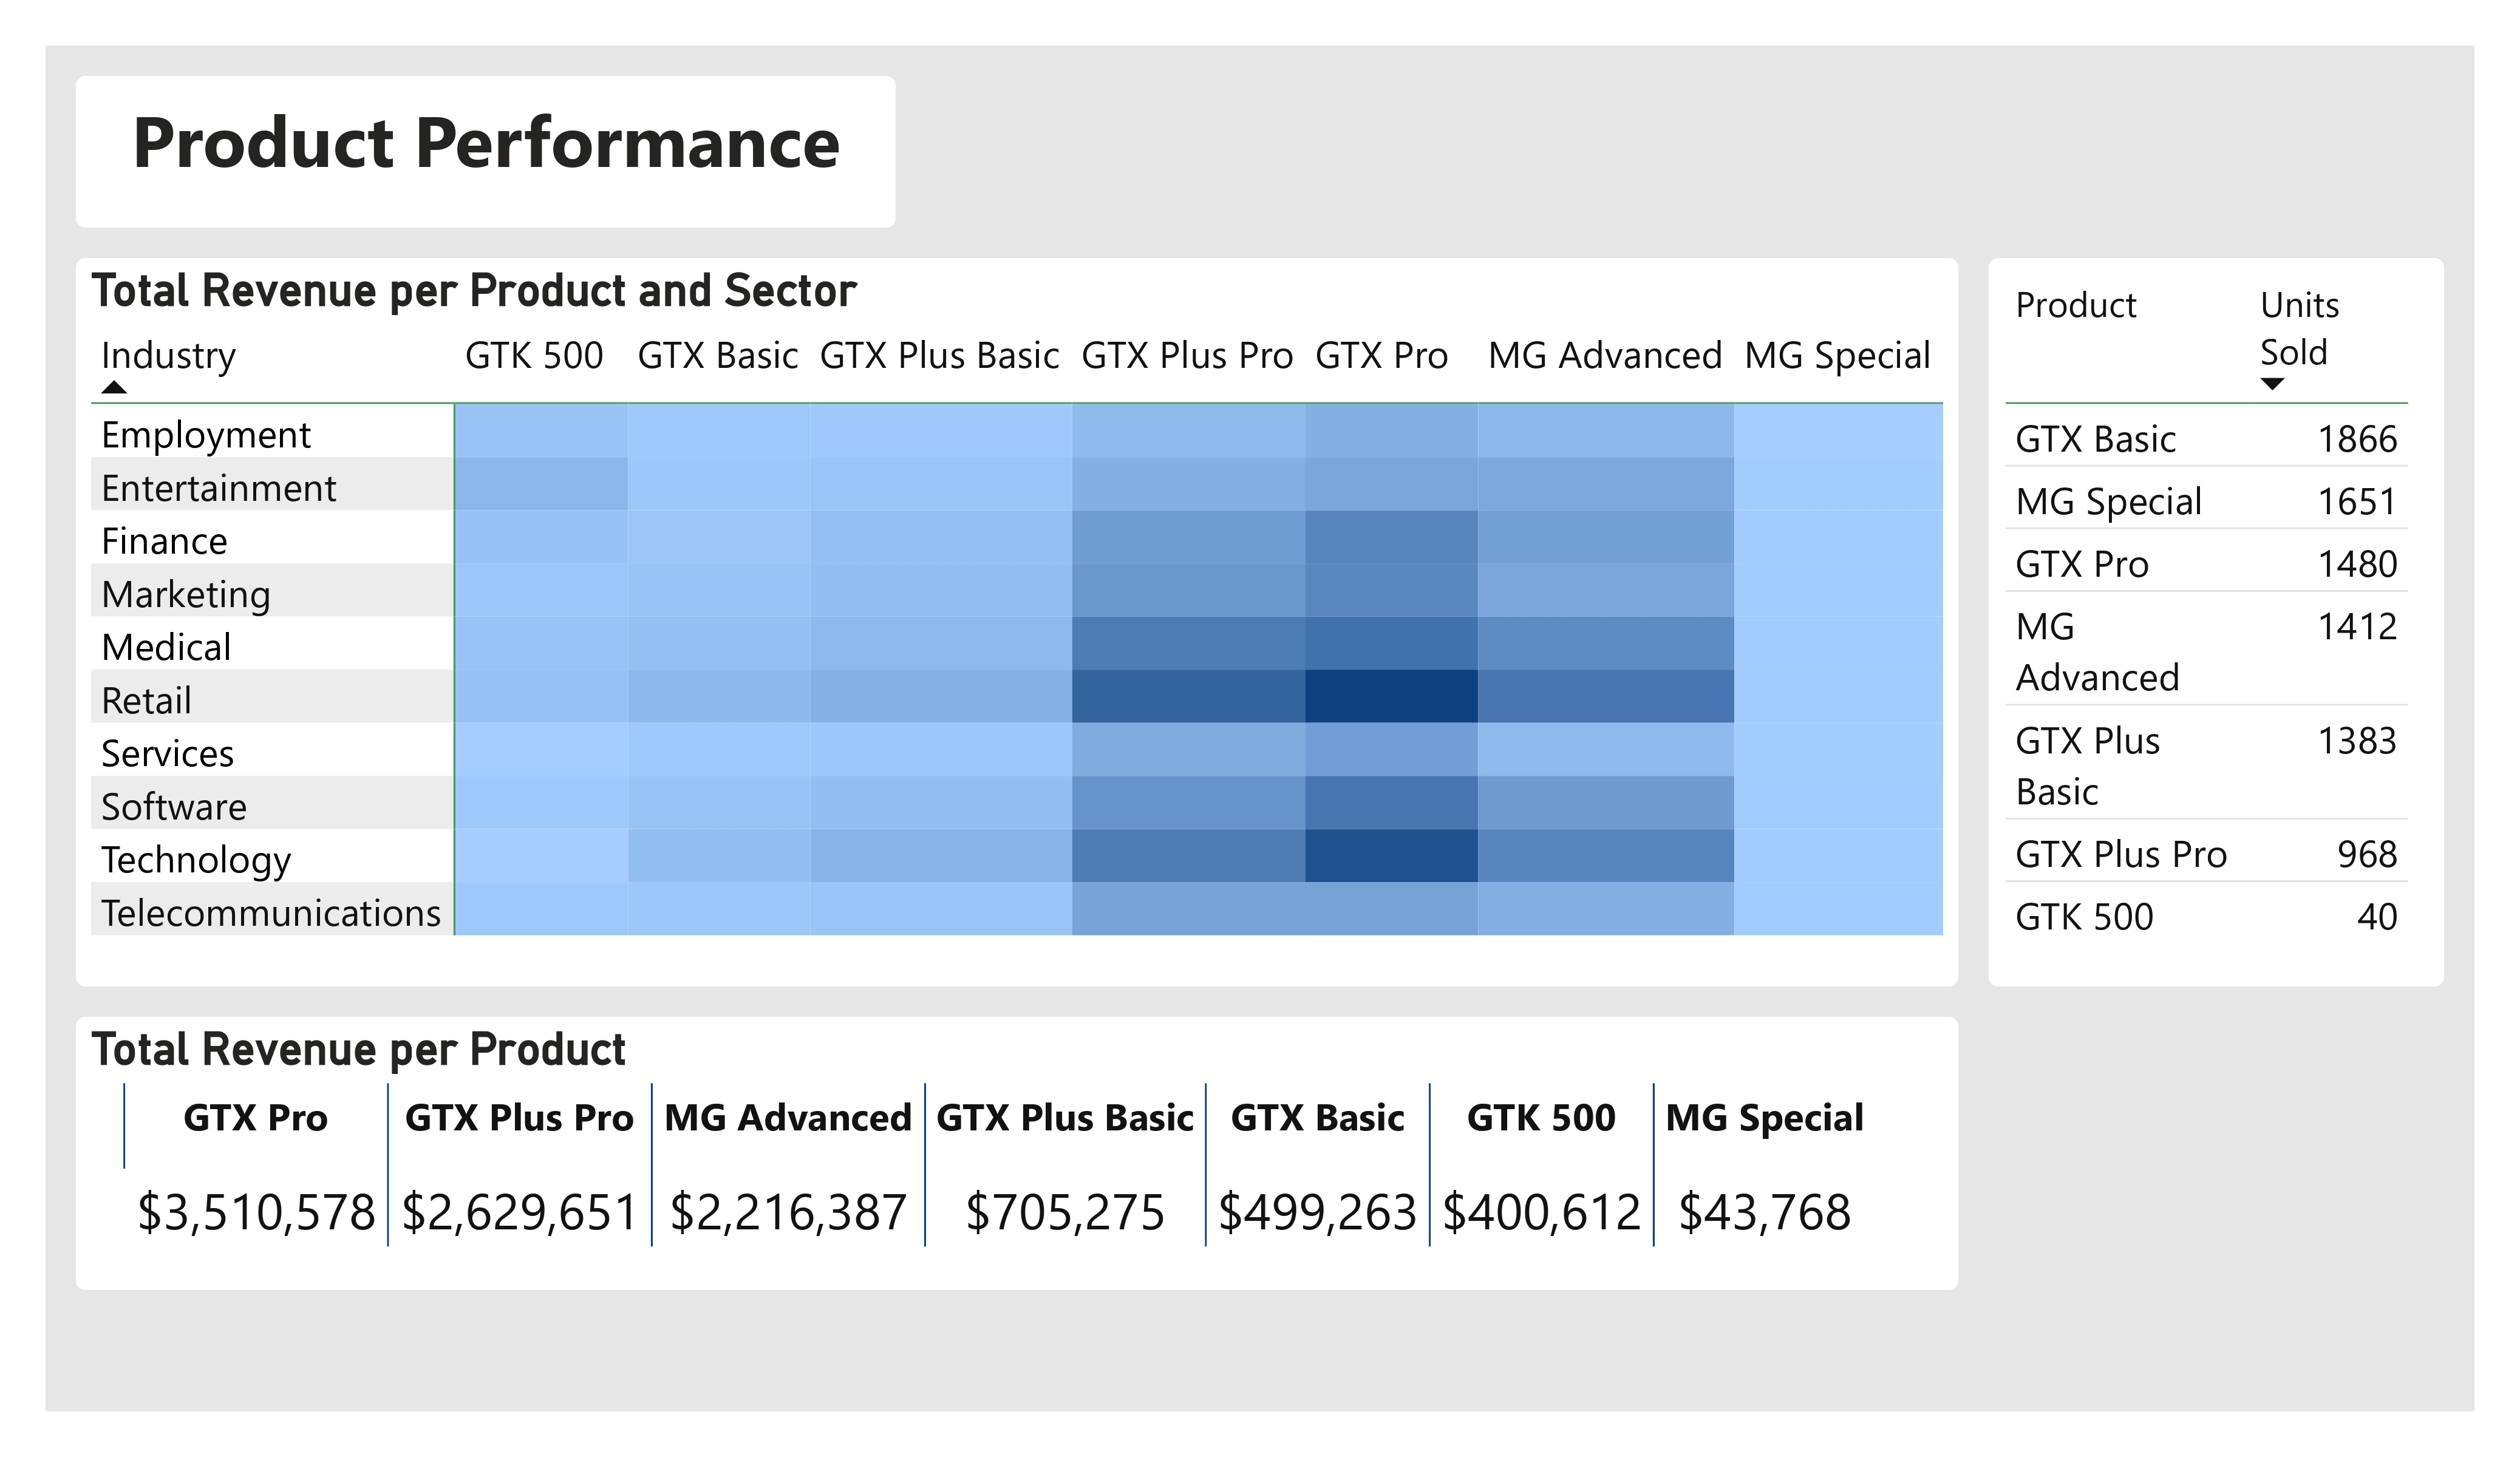

This screenshot's page, from the dashboard's own definition file:
{"tool":"powerbi","page":{"name":"Product Performance","canvas":[1280,720],"ordinal":3},"visuals":[{"type":"pivotTable","title":"Total Revenue per Product and Sector","fields":{"Rows":["Top Products per Industry.Industry"],"Columns":["Top Products per Industry.Product"],"Values":["Sum(Top Products per Industry.Total Value)"]},"box":[16,112,992,384],"z":0},{"type":"textbox","box":[16,16,432,80],"z":1000},{"type":"pivotTable","title":"Total Revenue per Product","fields":{"Columns":["Top Products per Industry.Product"],"Values":["Sum(Top Products per Industry.Total Value)"]},"box":[16,512,992,144],"z":2000},{"type":"tableEx","fields":{"Values":["Units Sold.Product","Units Sold.Units Sold"]},"box":[1024,112,240,384],"z":3000}]}

Visuals, with their boxes in screenshot pixels (x1, y1, x2, y2):
"Total Revenue per Product and Sector" pivotTable: region(76, 258, 1958, 987)
textbox: region(76, 76, 896, 228)
"Total Revenue per Product" pivotTable: region(76, 1017, 1958, 1290)
tableEx - Units Sold.Product x Units Sold.Units Sold: region(1989, 258, 2444, 987)
